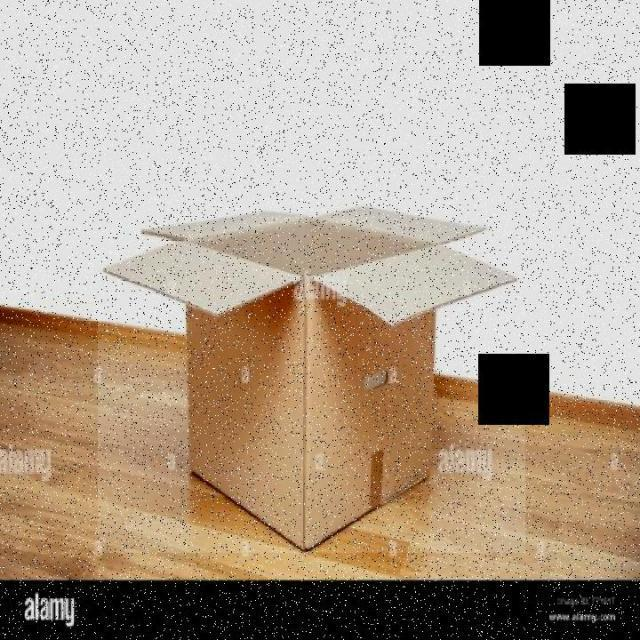box: (98, 190, 526, 553)
